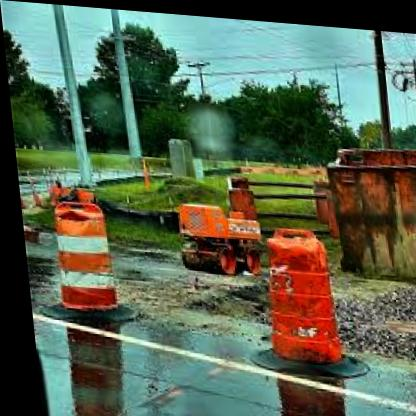obstacle: (248, 222, 342, 360), (44, 200, 112, 313)
